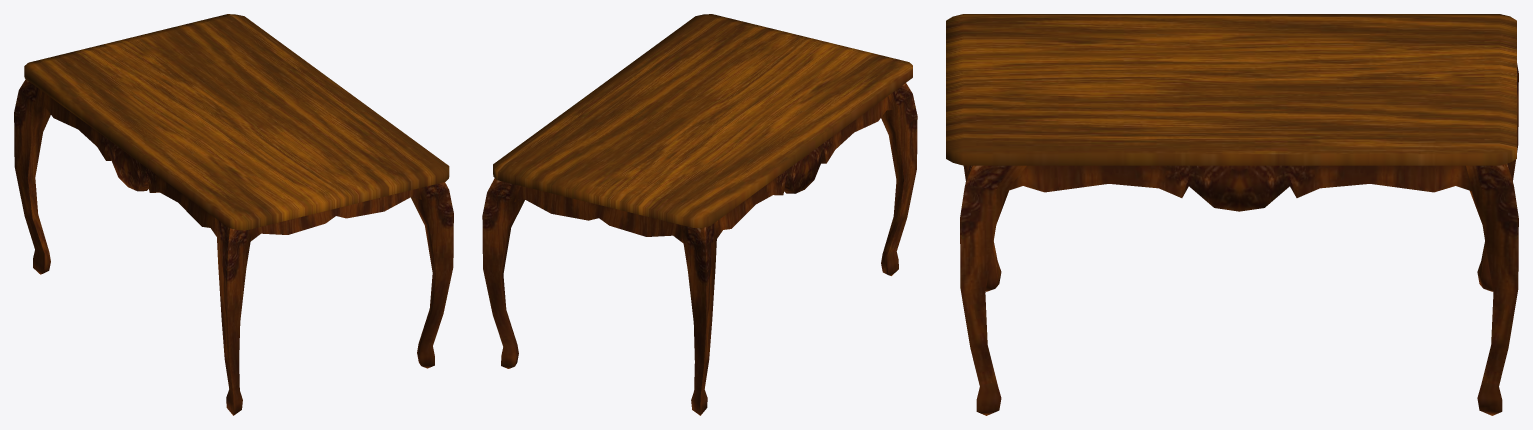
The model's file is SM_table_01.fbx.
The picture shows the model from 3 angles, left to right: view 1: azimuth 30°, elevation 25°; view 2: azimuth 150°, elevation 25°; view 3: azimuth 270°, elevation 25°; orthographic projection. The views are drawn at different scales.
Visible parts, largest first — view 1: SM_table_01; view 2: SM_table_01; view 3: SM_table_01.
Boxes of the visible parts, x1=… form: SM_table_01: x1=14, y1=14, x2=453, y2=415; SM_table_01: x1=482, y1=14, x2=917, y2=415; SM_table_01: x1=946, y1=14, x2=1518, y2=415.
Bounding box in the file's own units: 273 × 240 × 456.
